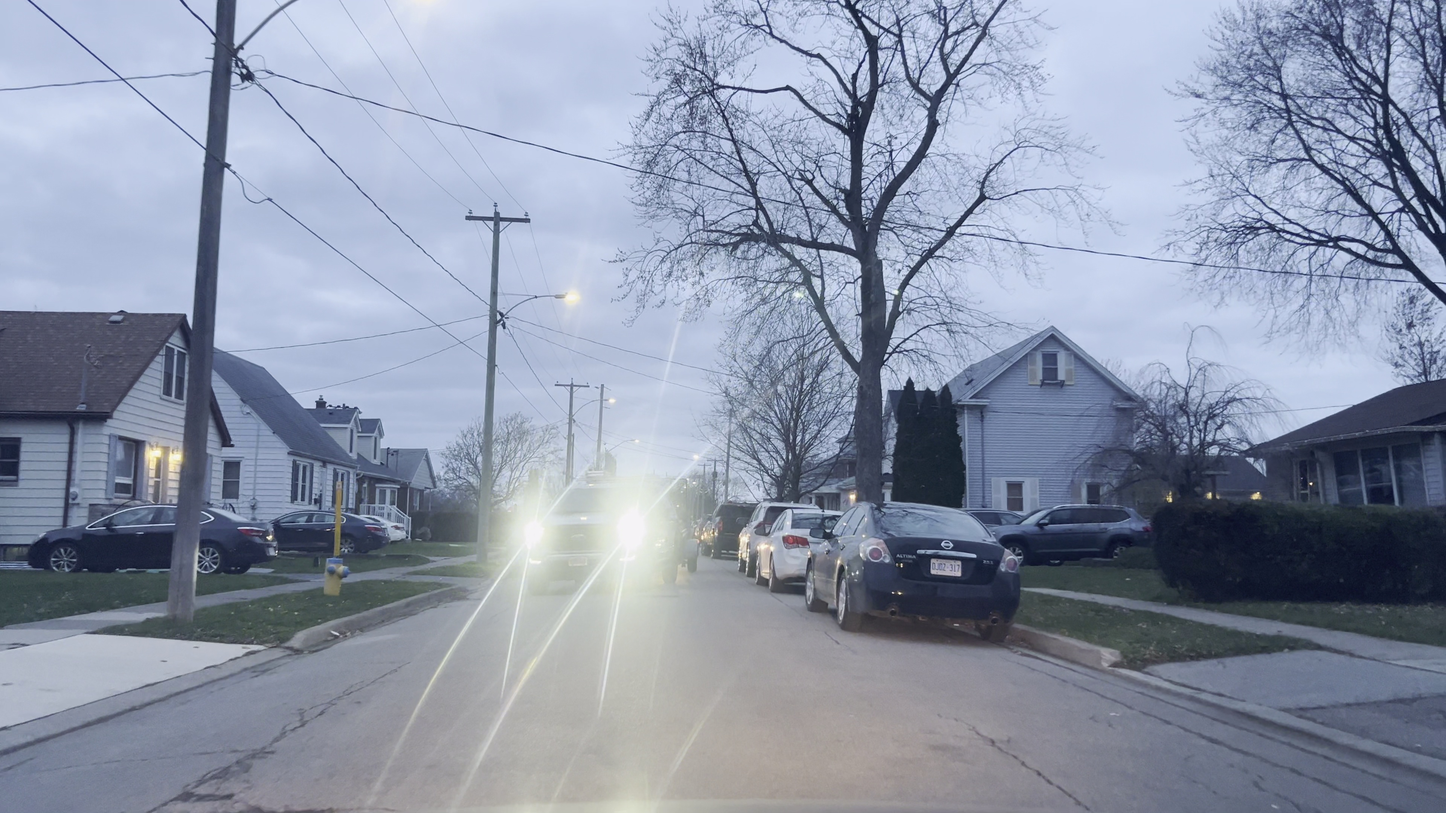cracks: (174, 700, 330, 801), (942, 719, 1085, 806)
